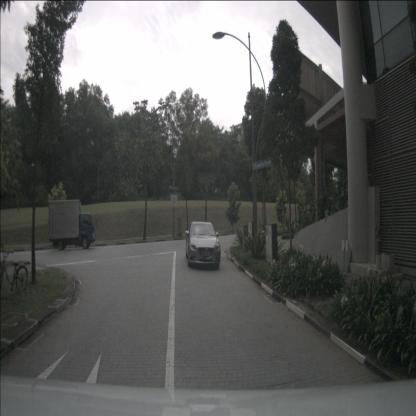vehicle-bicycle: (0, 243, 28, 292)
vehicle-car: (186, 221, 221, 269)
vehicle-truck: (48, 199, 96, 251)
